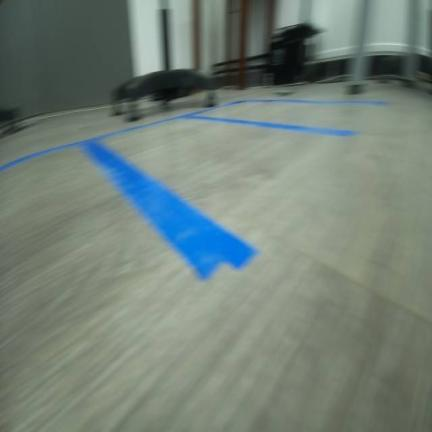place: (0, 134, 261, 409), (72, 111, 359, 289), (179, 96, 388, 138)
